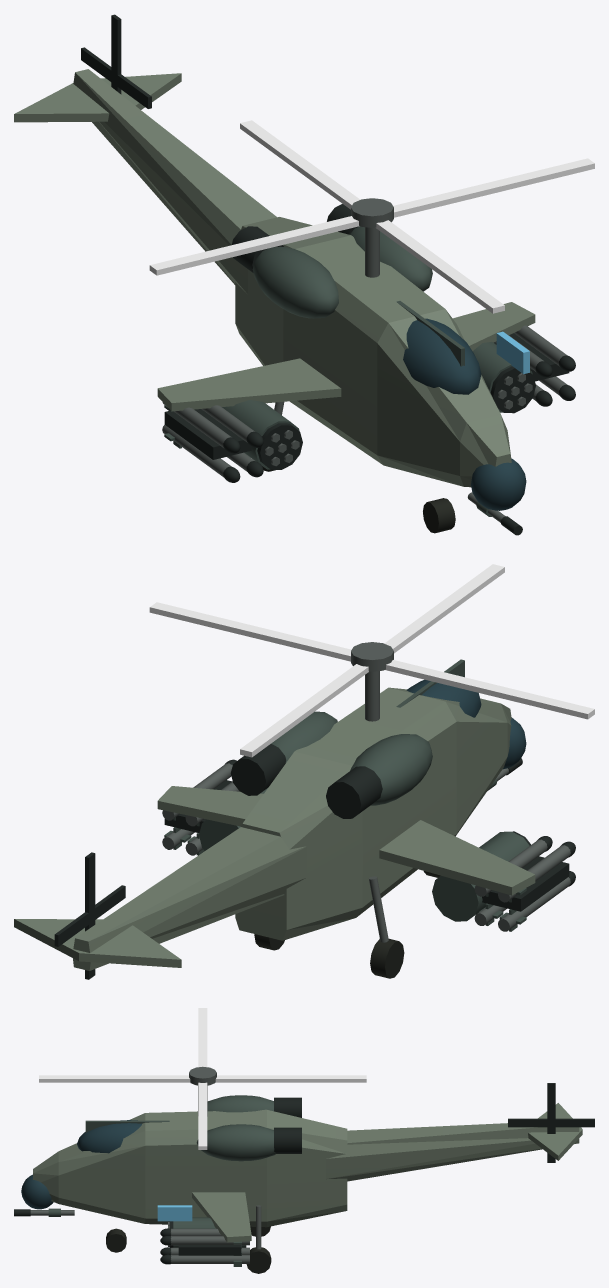
File: gunship.glb
3 views of the same model, one above another, from view 1: azimuth 30°, elevation 25°; view 2: azimuth 150°, elevation 25°; view 3: azimuth 270°, elevation 25° (orthographic). The views are drawn at different scales.
Visible parts, largest first — view 1: armor, equipment (×6), glass, marking; view 2: armor, equipment (×6), glass; view 3: armor, equipment (×6), glass, marking.
Boxes of the visible parts, bbox=[...] form: armor: bbox=[14, 69, 535, 487]; equipment (×6): bbox=[81, 14, 594, 533]; glass: bbox=[403, 318, 526, 510]; marking: bbox=[496, 331, 529, 374]; armor: bbox=[14, 687, 535, 970]; equipment (×6): bbox=[54, 564, 594, 979]; glass: bbox=[406, 676, 526, 769]; armor: bbox=[33, 1103, 582, 1242]; equipment (×6): bbox=[14, 1008, 594, 1273]; glass: bbox=[21, 1120, 141, 1209]; marking: bbox=[157, 1205, 192, 1221].
Bounding box in the file's own units: 4.7 × 2.86 × 8.34.
